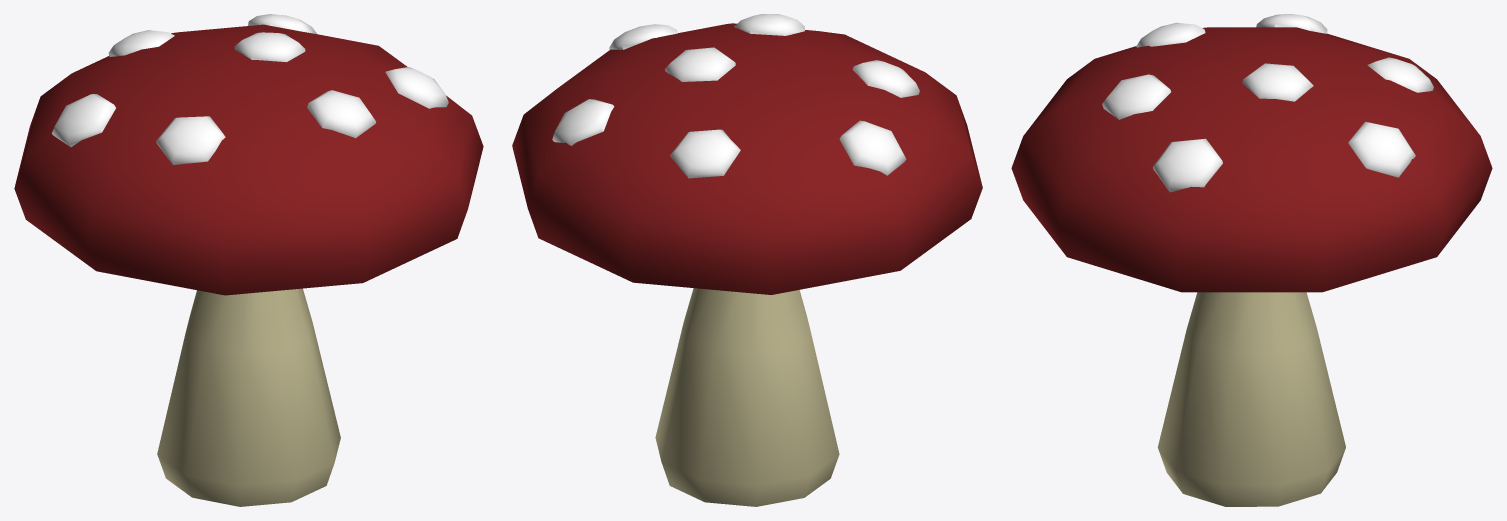
File: PoisonItem.fbx
3 views of the same model, side by side, from view 1: azimuth 30°, elevation 25°; view 2: azimuth 150°, elevation 25°; view 3: azimuth 270°, elevation 25° (orthographic).
Parts seen in each view (by area): view 1: Cylinder; view 2: Cylinder; view 3: Cylinder.
Part boxes in pixels (bbox=[...]): Cylinder: bbox=[14, 14, 483, 506]; Cylinder: bbox=[512, 14, 982, 506]; Cylinder: bbox=[1011, 14, 1492, 506].
Size of the model in its own units: 58.49 by 59.03 by 61.5.
